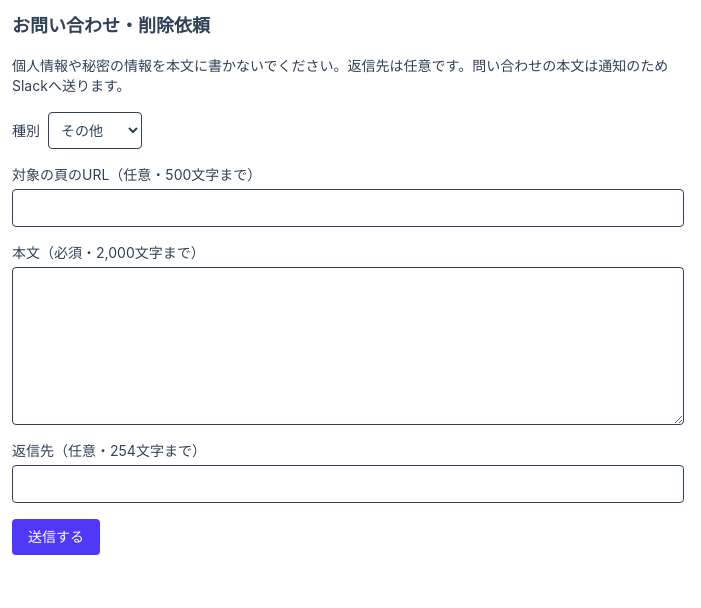
it: explains 429 failures without losing the message
Type "please keep this text" into the text box labelled "本文（必須・2,000文字まで）" at [348, 346], box x1=12 y1=267 x2=684 y2=425
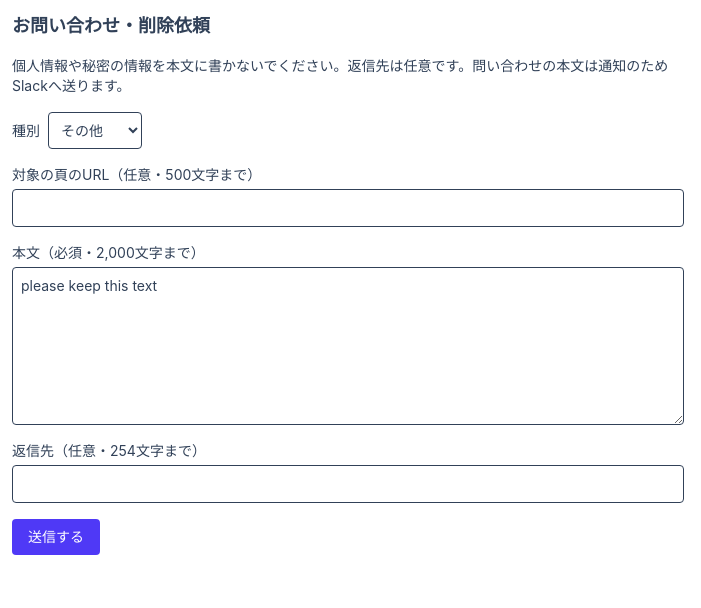
Click the button "送信する" at [56, 537], box x1=12 y1=519 x2=100 y2=555
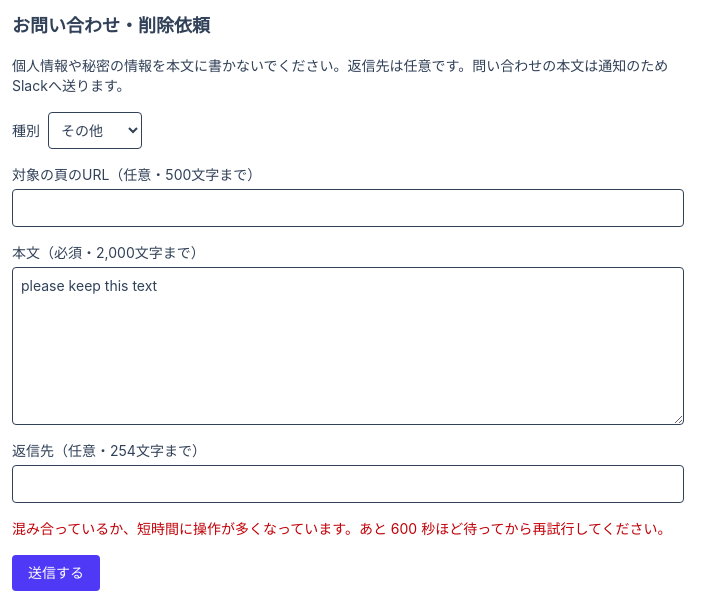
Result: the message shows "600 秒" at x1=12 y1=520 x2=672 y2=537
